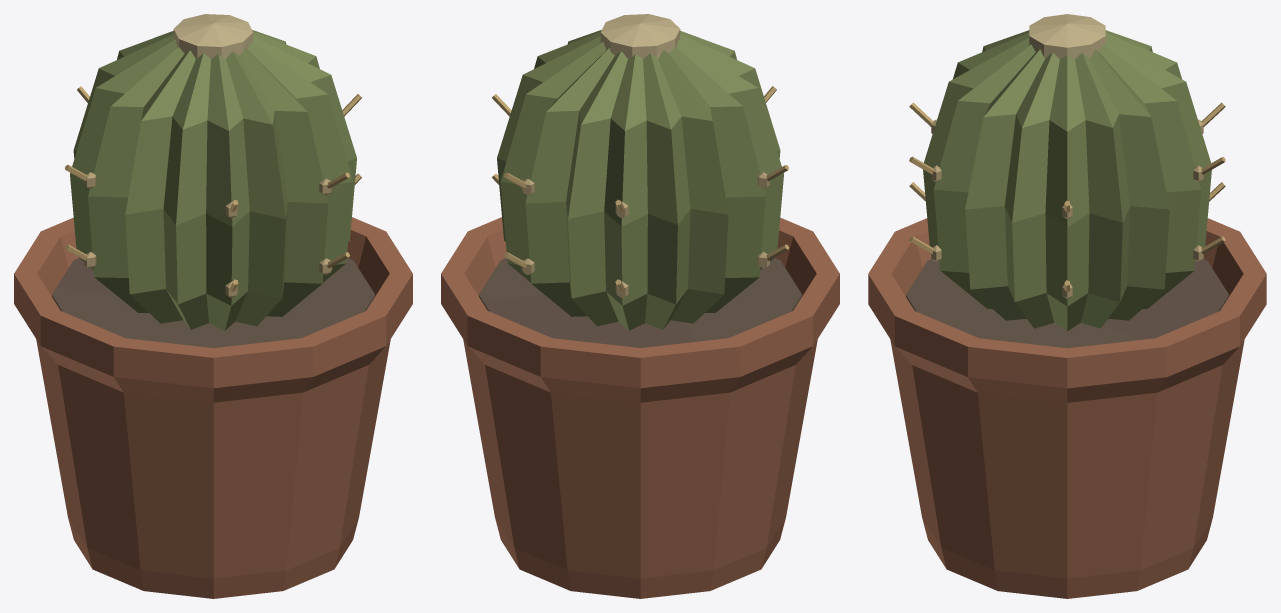
File: barrel.glb
3 views of the same model, side by side, from view 1: azimuth 30°, elevation 25°; view 2: azimuth 150°, elevation 25°; view 3: azimuth 270°, elevation 25° (orthographic).
Parts seen in each view (by area): view 1: barrel/review-terra-vessel, barrel/ribbed-stem-001, barrel/review-rooted-soil, barrel/woolly-crown-026; view 2: barrel/review-terra-vessel, barrel/ribbed-stem-001, barrel/review-rooted-soil, barrel/woolly-crown-026; view 3: barrel/review-terra-vessel, barrel/ribbed-stem-001, barrel/review-rooted-soil, barrel/woolly-crown-026.
Boxes of the visible parts, x1,y1,x2,y2 form: barrel/review-terra-vessel: [14, 217, 412, 598]; barrel/ribbed-stem-001: [70, 30, 356, 330]; barrel/review-rooted-soil: [52, 258, 374, 347]; barrel/woolly-crown-026: [173, 14, 253, 58]; barrel/review-terra-vessel: [441, 217, 839, 598]; barrel/ribbed-stem-001: [497, 30, 783, 330]; barrel/review-rooted-soil: [479, 258, 801, 347]; barrel/woolly-crown-026: [600, 14, 680, 58]; barrel/review-terra-vessel: [868, 218, 1266, 598]; barrel/ribbed-stem-001: [923, 30, 1211, 331]; barrel/review-rooted-soil: [906, 259, 1228, 348]; barrel/woolly-crown-026: [1029, 14, 1105, 58].
Size of the model in its own units: 0.19 by 0.2715 by 0.19.
6 materials, 6 textured.
